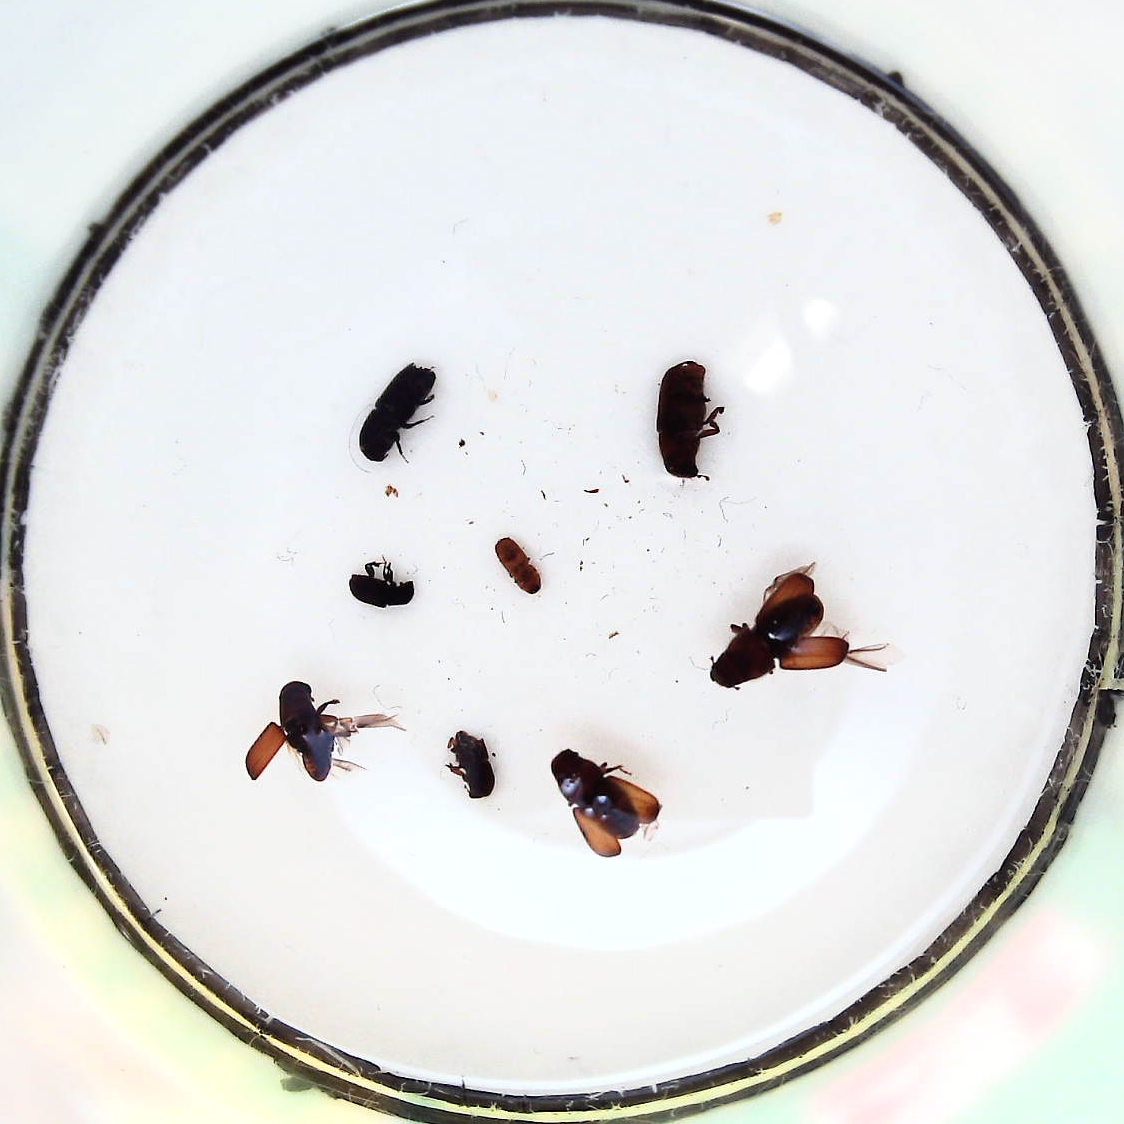Boerner: (357, 358, 443, 468)
Leconte: (710, 569, 851, 689), (241, 679, 372, 783), (548, 747, 662, 860), (651, 356, 725, 481)
Linnaeus: (443, 727, 495, 802)
acuminatus: (492, 532, 546, 597)
armandi: (348, 560, 420, 609)
